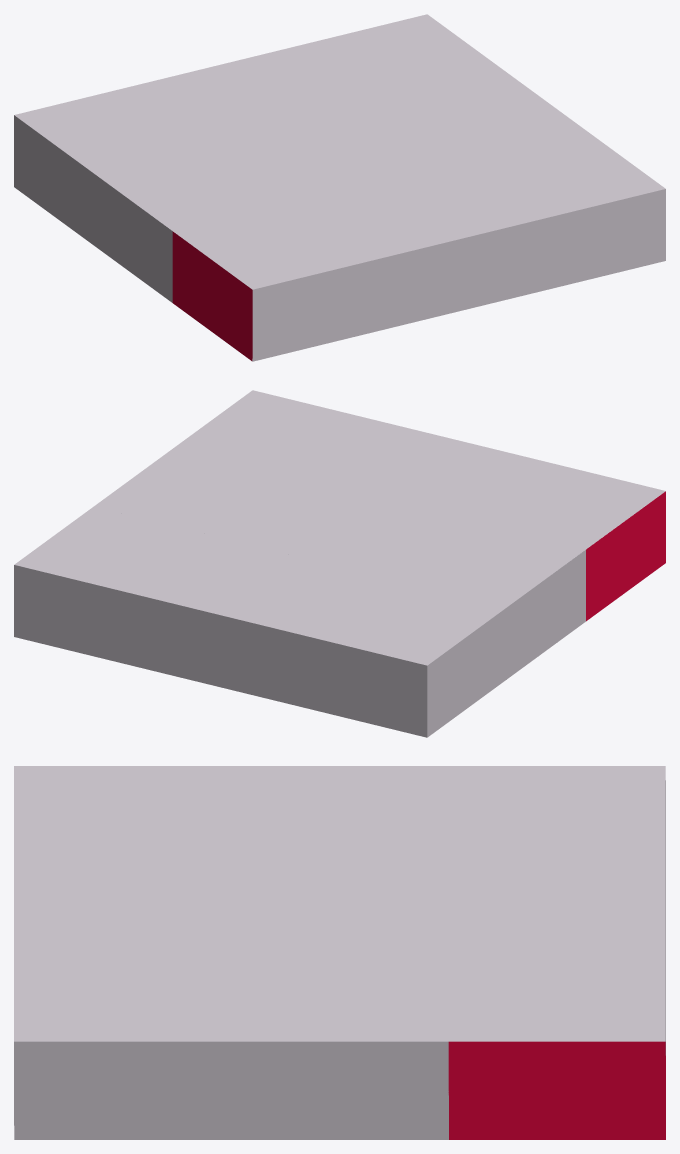
File: Easy Room.fbx
The picture shows the model from 3 angles, top to bottom: view 1: azimuth 30°, elevation 25°; view 2: azimuth 150°, elevation 25°; view 3: azimuth 270°, elevation 25°; orthographic projection. The views are drawn at different scales.
Parts seen in each view (by area): view 1: Plane; view 2: Plane; view 3: Plane.
Boxes of the visible parts, box(x1,y1,x2,y2) form: Plane: box(14, 14, 665, 361); Plane: box(14, 390, 665, 737); Plane: box(14, 766, 665, 1139).
Size of the model in its own units: 3001 by 500 by 3001.
